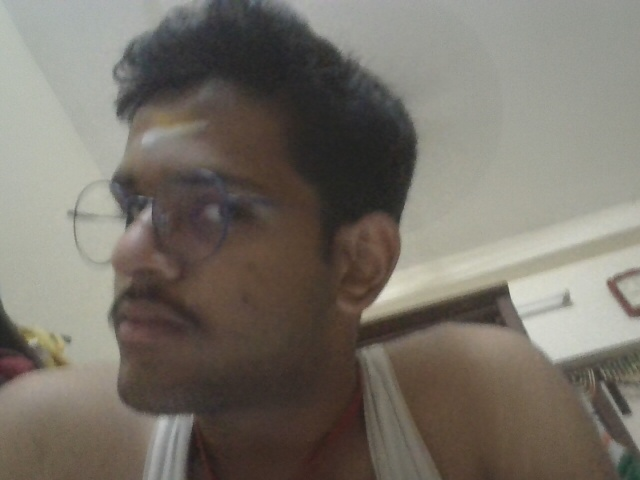real: (70, 196, 131, 257)
